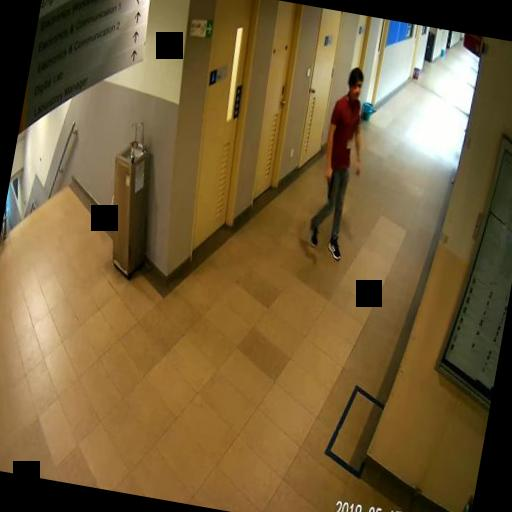Handgun: (320, 166, 334, 196)
